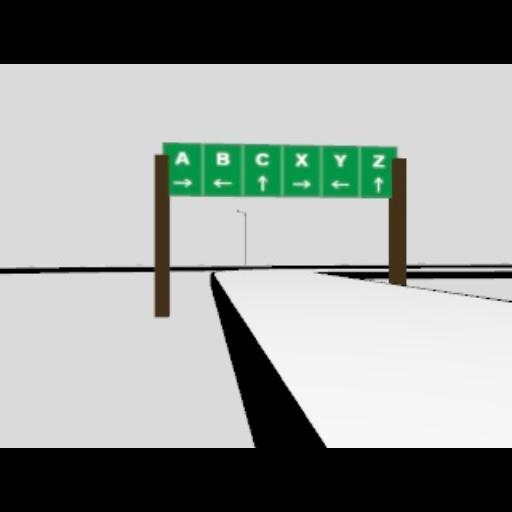A: (175, 151, 189, 165)
B: (215, 151, 229, 165)
C: (253, 152, 269, 164)
Left: (211, 177, 233, 187), (330, 179, 348, 189)
Right: (172, 177, 192, 187), (292, 179, 310, 187)
Straight: (256, 174, 268, 190), (373, 176, 383, 192)
X: (294, 152, 308, 166)
Y: (333, 152, 347, 166)
Z: (371, 154, 385, 166)
